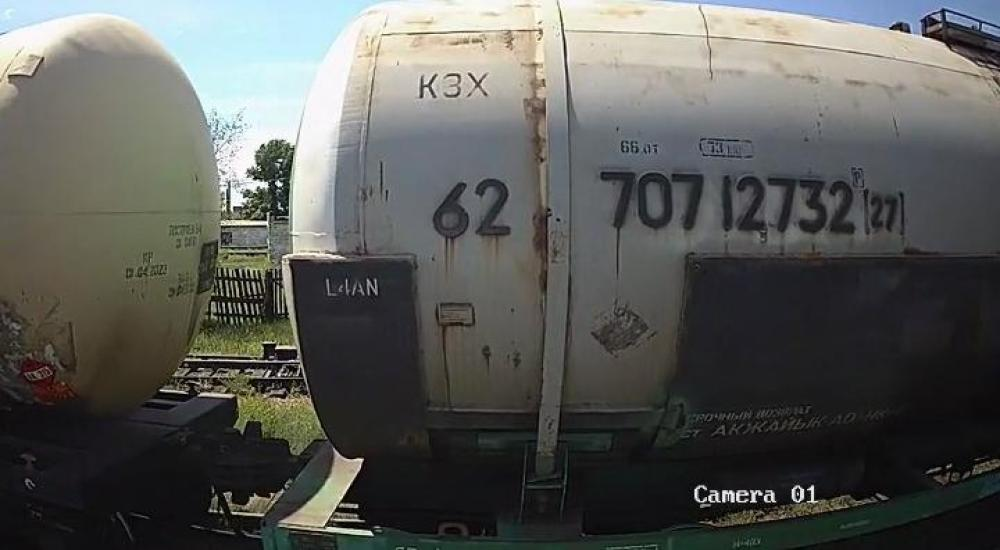Wagon-number: (598, 166, 860, 238)
